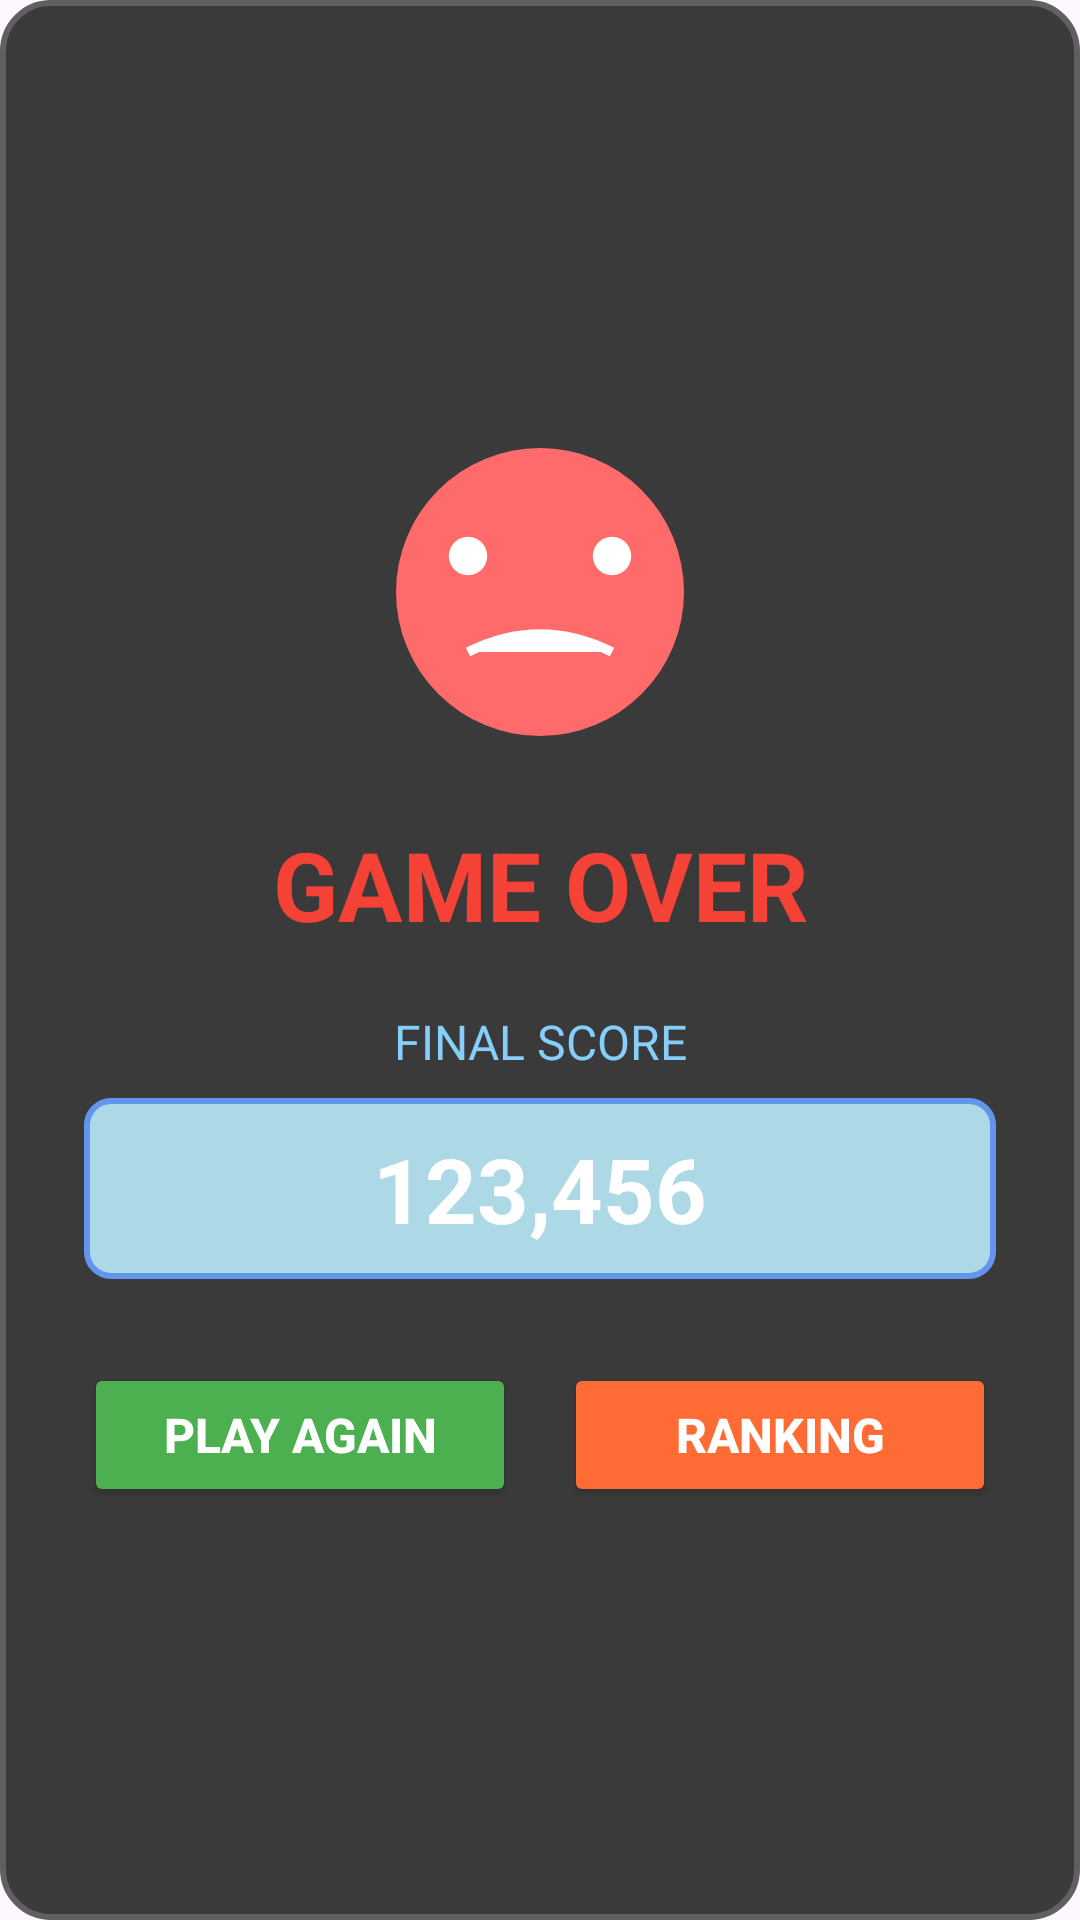

Screen size 1080×1920. Icon name, then its box in pixels as (x1, y1, x2, y2):
You Lost: (396, 448, 684, 736)
